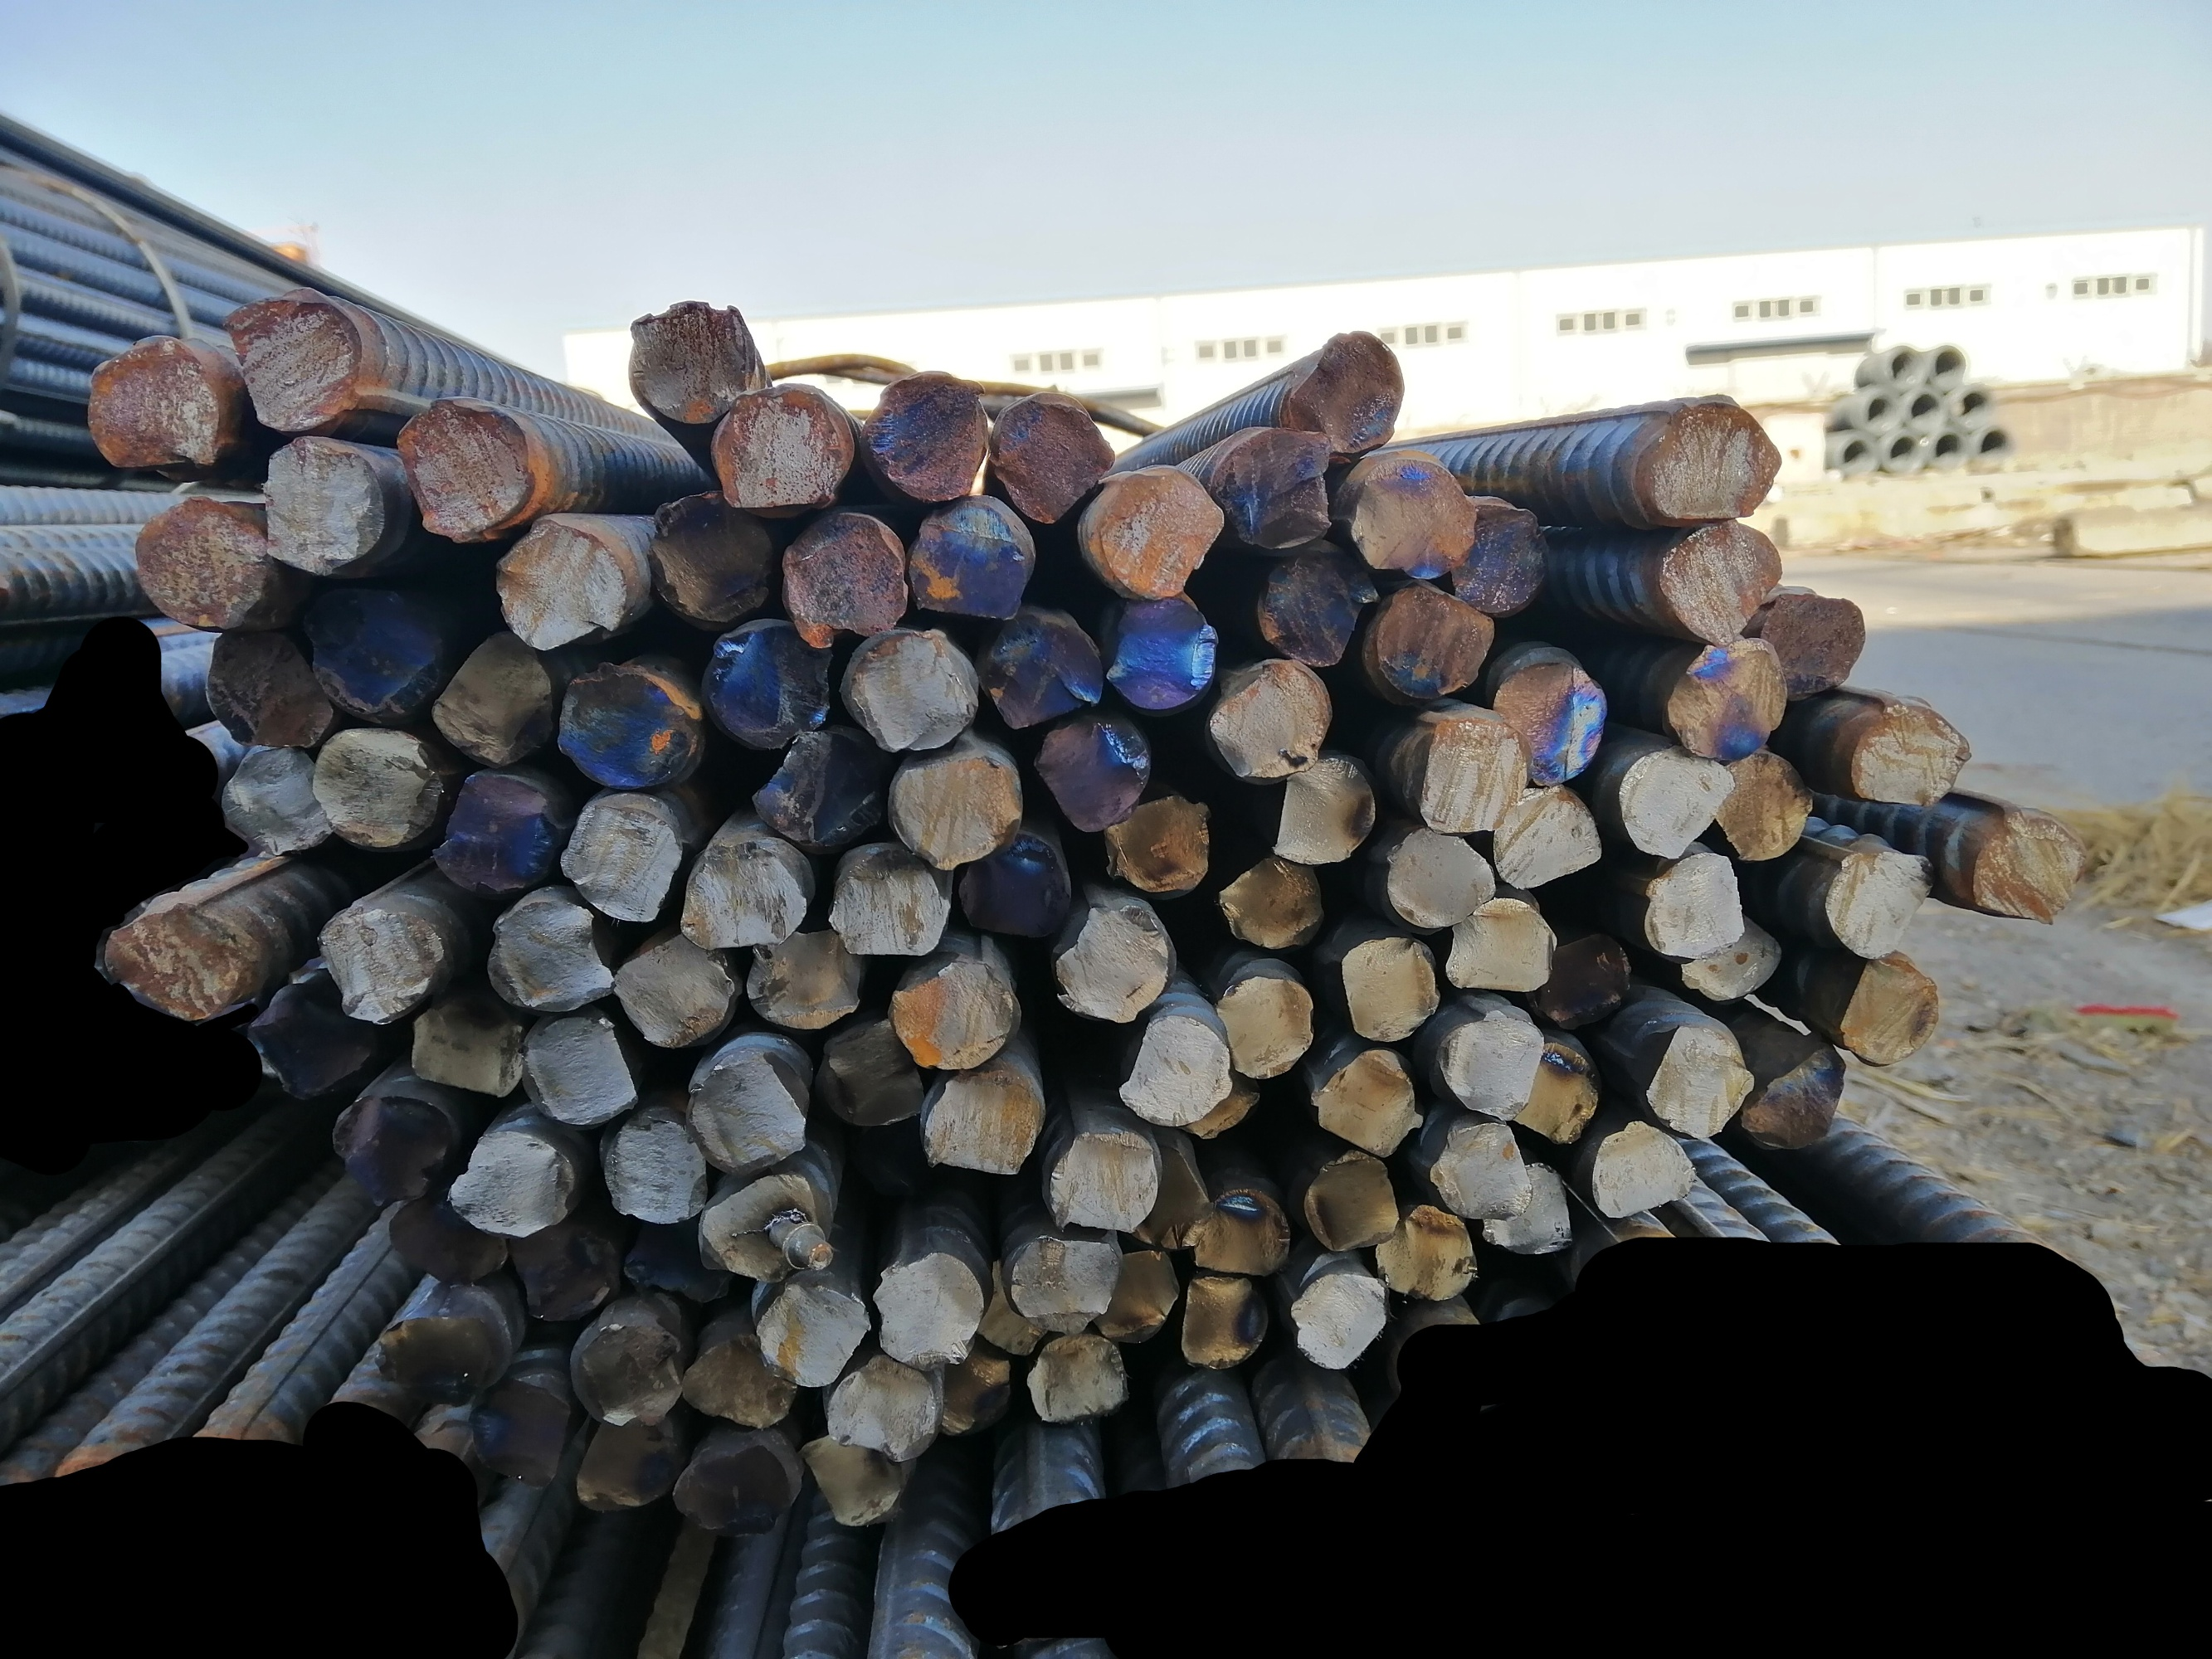rebar: (394, 383, 539, 542), (84, 329, 227, 484), (220, 291, 370, 437), (310, 563, 451, 718), (493, 511, 638, 657), (1628, 392, 1785, 525), (556, 779, 692, 931), (193, 598, 335, 742), (253, 432, 392, 579), (551, 657, 699, 793), (706, 376, 847, 516), (648, 490, 786, 633), (779, 504, 912, 652), (418, 634, 560, 770), (1084, 465, 1227, 599), (103, 894, 248, 1026), (129, 491, 267, 627), (621, 291, 758, 427), (675, 1037, 811, 1173), (310, 899, 450, 1032), (744, 732, 892, 856), (988, 385, 1112, 532), (861, 373, 992, 511), (476, 885, 612, 1016), (887, 742, 1025, 871), (450, 1110, 582, 1243), (701, 619, 835, 749), (847, 624, 978, 758), (1349, 450, 1478, 586), (668, 828, 812, 948), (1048, 892, 1178, 1023), (607, 929, 739, 1056), (432, 767, 563, 894), (1658, 518, 1788, 645), (312, 714, 438, 847), (692, 1161, 831, 1279), (1370, 580, 1497, 709), (1490, 657, 1618, 786), (891, 950, 1021, 1075), (329, 1079, 453, 1209), (514, 1000, 636, 1133), (1842, 690, 1975, 812), (591, 1096, 709, 1232), (1206, 650, 1328, 779), (1663, 633, 1785, 762), (812, 1012, 934, 1140), (1611, 741, 1738, 863), (1217, 416, 1333, 549), (981, 608, 1107, 730), (251, 964, 370, 1093), (565, 1310, 690, 1431), (908, 498, 1028, 620), (920, 1068, 1046, 1185), (1963, 803, 2080, 929), (736, 922, 865, 1035), (1410, 714, 1530, 835), (824, 847, 952, 960), (1438, 498, 1555, 620), (1295, 331, 1410, 455), (1257, 538, 1370, 664), (870, 1246, 985, 1368), (373, 1307, 514, 1406), (1105, 592, 1218, 716), (1114, 1007, 1232, 1124), (1044, 1121, 1163, 1236), (1041, 711, 1156, 829), (755, 1276, 875, 1389), (1823, 840, 1937, 960), (819, 1351, 941, 1462), (209, 732, 321, 852), (399, 997, 523, 1105), (955, 833, 1072, 945), (1642, 1023, 1754, 1140), (1429, 1011, 1543, 1124), (1008, 1225, 1124, 1335), (1487, 781, 1605, 889), (675, 1438, 798, 1540), (464, 1370, 570, 1488), (1761, 587, 1867, 706), (1837, 951, 1942, 1072), (680, 1324, 797, 1431), (1710, 748, 1816, 864), (1740, 1039, 1844, 1155), (1215, 962, 1316, 1082), (1269, 753, 1377, 864), (1215, 847, 1330, 950), (390, 1187, 511, 1284), (572, 1408, 682, 1514), (1637, 849, 1743, 958), (1424, 1115, 1534, 1222), (1311, 1049, 1422, 1154), (1443, 894, 1557, 997), (1388, 828, 1499, 931), (797, 1429, 905, 1532), (1342, 929, 1442, 1040), (1283, 1269, 1388, 1373), (1109, 793, 1213, 897), (1023, 1331, 1131, 1432), (1590, 1119, 1696, 1220), (1194, 1190, 1299, 1290), (1374, 1202, 1478, 1302), (1304, 1150, 1401, 1256), (1086, 1243, 1182, 1349), (1506, 1040, 1600, 1147), (1677, 910, 1787, 1000), (1534, 938, 1642, 1028), (516, 1225, 614, 1324), (1173, 1272, 1271, 1371), (624, 1223, 737, 1307), (1483, 1159, 1579, 1256), (966, 1256, 1051, 1361), (929, 1345, 1018, 1439)
